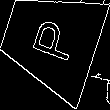P_W: (23, 15, 78, 67)
